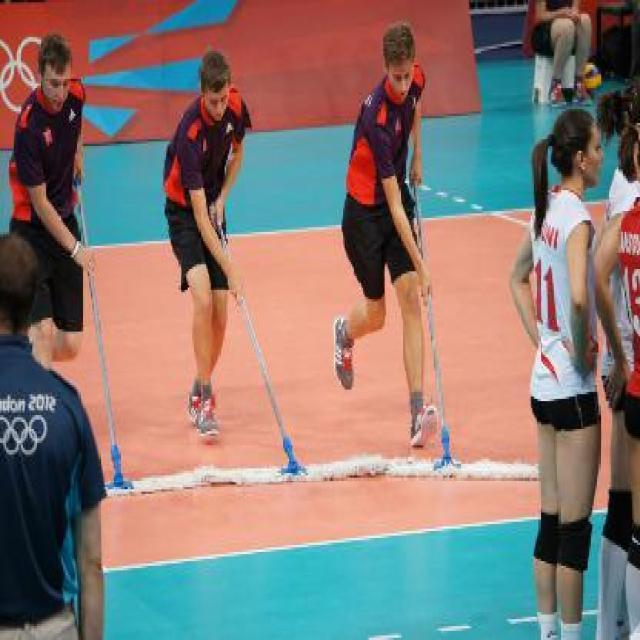volleyball: (585, 64, 600, 95)
